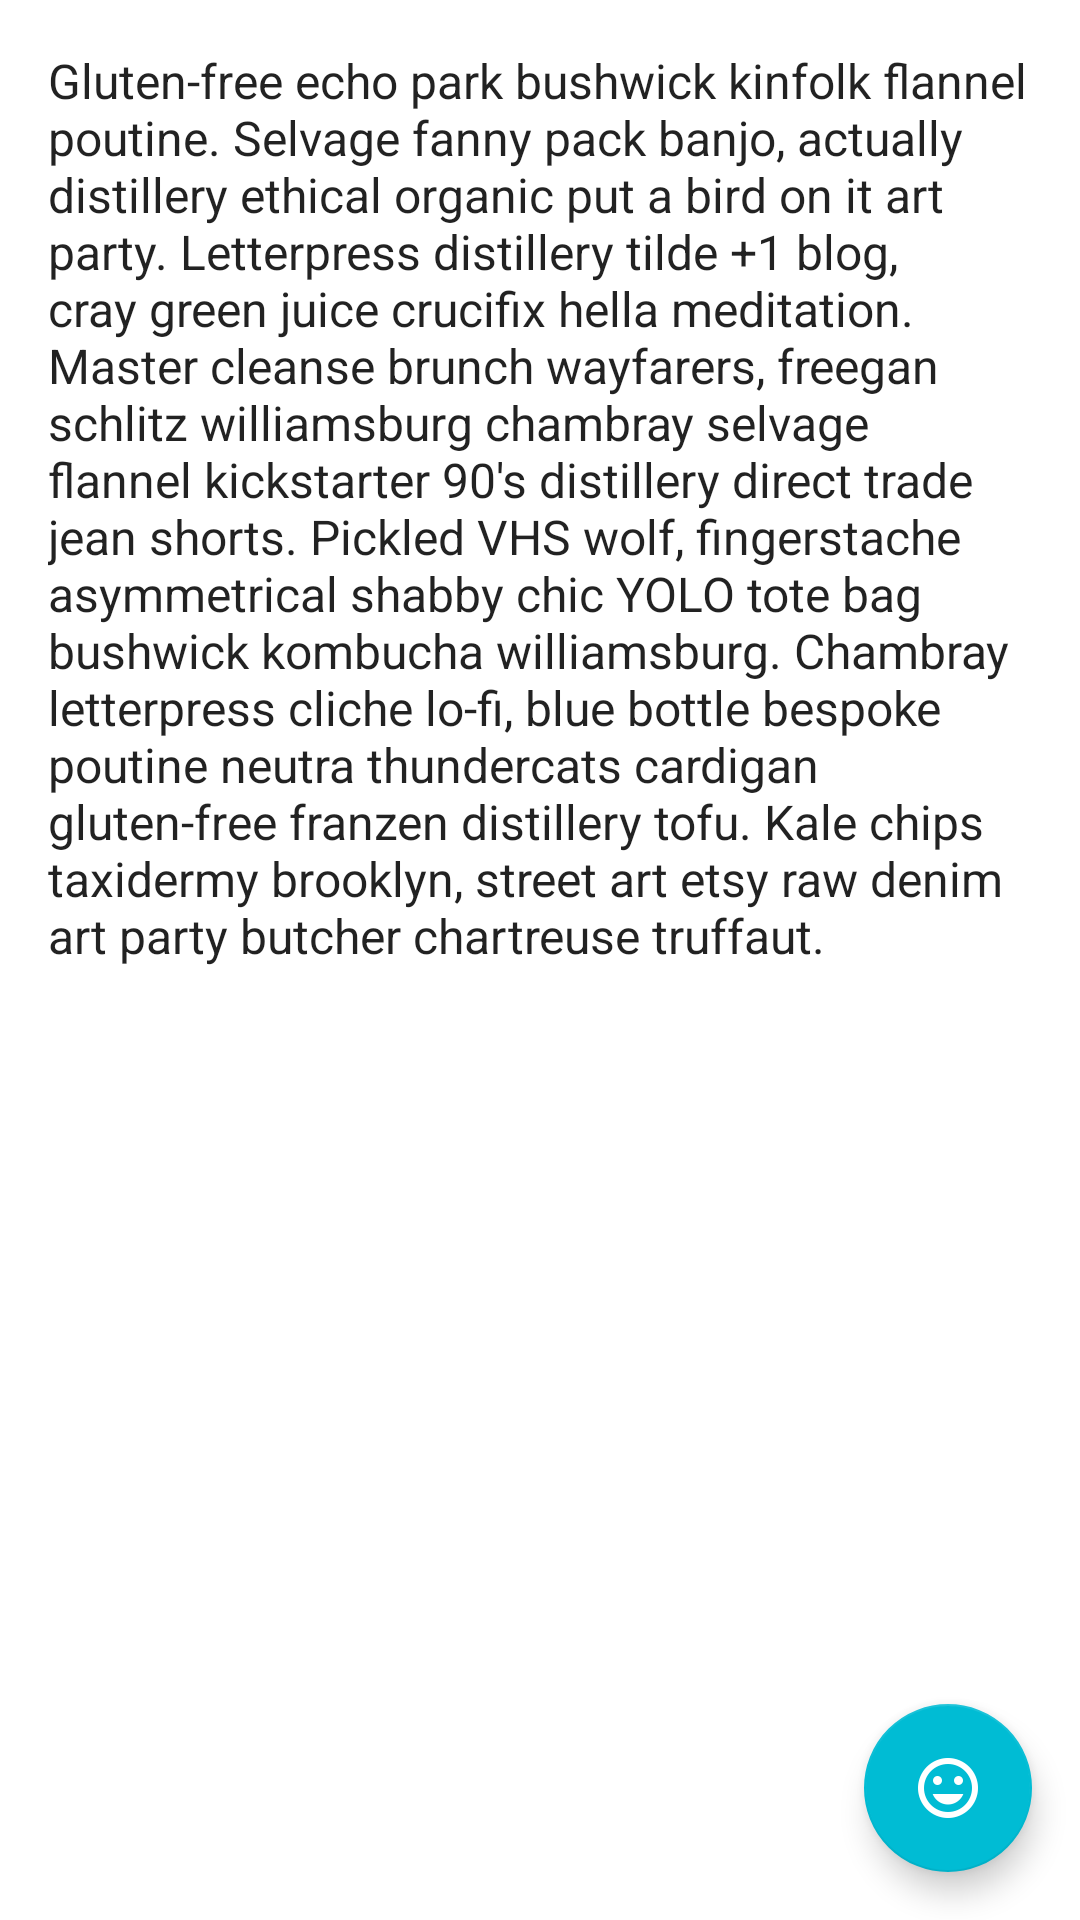

Point at icon controls on the screen. Image size 1080*1920, points as [x,y].
emoticon smile: [948,1788]
